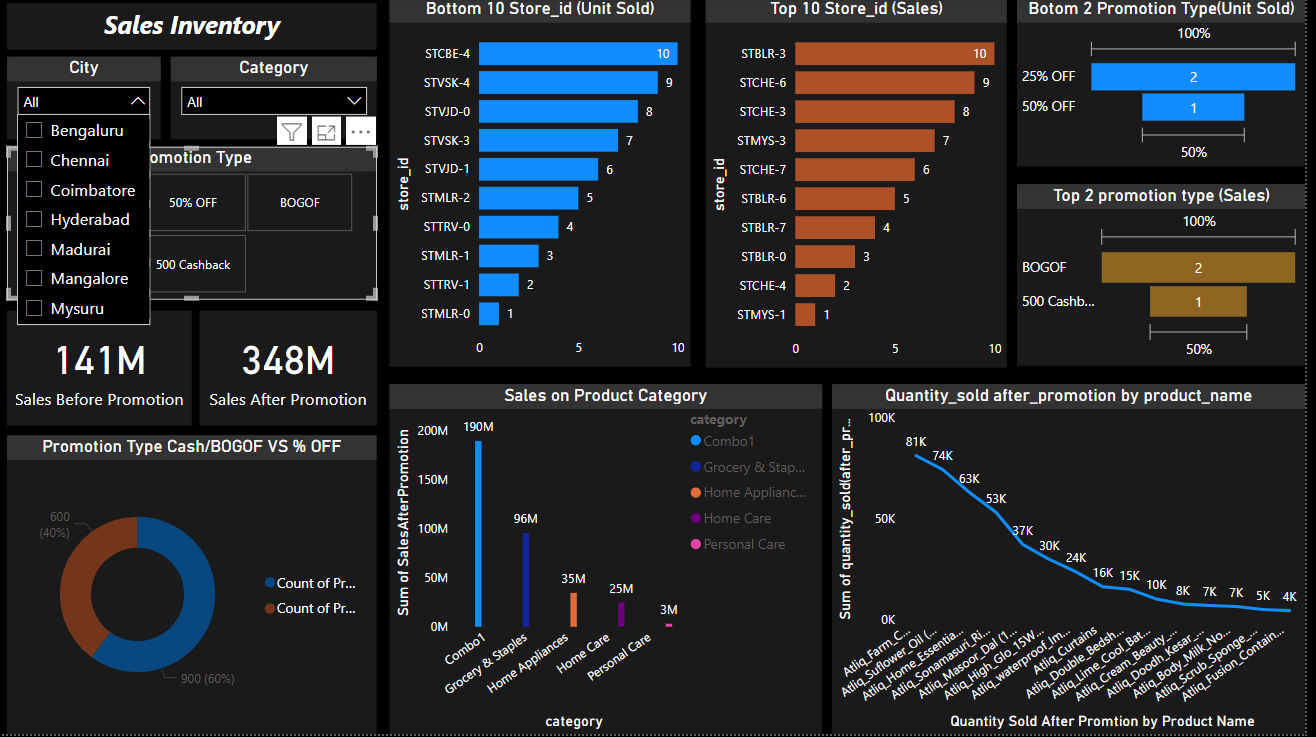

This screenshot's page, from the dashboard's own definition file:
{"tool":"powerbi","page":{"name":"Sales Inventory","canvas":[1280,720],"ordinal":0},"visuals":[{"type":"slicer","title":"City","fields":{"Values":["dim_stores.city"]},"box":[9.8,57.5,150.4,80.7],"z":0},{"type":"barChart","title":"Bottom 10 Store_id (Unit Sold)","fields":{"Y":["fact_events.Bottom 10 Customer_UNitSold"],"Category":["fact_events.store_id"]},"box":[383.8,0,294,361],"z":1000},{"type":"barChart","title":"Top 10 Store_id (Sales)","fields":{"Category":["fact_events.store_id"],"Y":["fact_events.Top_10_customers"]},"box":[693.1,0,294.6,361.8],"z":2000},{"type":"funnel","title":"Botom 2 Promotion Type(Unit Sold)","fields":{"Category":["fact_events.promo_type"],"Y":["fact_events.BottomCustomer"]},"box":[997.5,0,282.4,165],"z":3000},{"type":"funnel","title":"Top 2 promotion type (Sales)","fields":{"Category":["fact_events.promo_type"],"Y":["fact_events.Promtiontype"]},"box":[997.5,182.1,282.4,177.2],"z":4000},{"type":"slicer","title":"Category","fields":{"Values":["dim_products.category"]},"box":[169.9,57.5,201.7,80.7],"z":5000},{"type":"slicer","title":"Promotion Type","fields":{"Values":["fact_events.promo_type"]},"box":[9.8,145.5,361.8,149.1],"z":6000},{"type":"card","fields":{"Values":["fact_events.TotalSalesBeforePromotion"]},"box":[481.6,436.4,173.6,112.5],"z":7000},{"type":"card","fields":{"Values":["fact_events.TotalSalesAterPrmotion"]},"box":[198,305.6,173.6,112.5],"z":8000},{"type":"donutChart","title":"Promotion Type Cash/BOGOF VS % OFF","fields":{"Y":["CountNonNull(fact_events.Promotype for %off)","CountNonNull(fact_events.PromotypeCash/BOGOF)"]},"box":[9.8,427.8,361.8,292.2],"z":9000},{"type":"clusteredColumnChart","title":"Sales on Product Category","fields":{"Category":["dim_products.category"],"Y":["Sum(fact_events.SalesAfterPromotion)"],"Series":["dim_products.category"]},"box":[383.8,377.7,423,342.3],"z":10000},{"type":"lineChart","title":"Quantity_sold after_promotion  by product_name","fields":{"Category":["dim_products.product_name"],"Y":["Sum(fact_events.quantity_sold(after_promo))"]},"box":[816.6,377.7,463.3,342.3],"z":11000},{"type":"textbox","box":[9.8,4.9,361.8,45.2],"z":12000},{"type":"card","fields":{"Values":["Sum(fact_events.Sales_before_promotion)"]},"box":[9.8,305.6,180.9,112.5],"z":13000}]}

Visuals, with their boxes in screenshot pixels (x1, y1, x2, y2), scaled from the page's 1280x720 canvas onto the 1316x737 screenshot:
"City" slicer: 10:59:165:141
"Bottom 10 Store_id (Unit Sold)" barChart: 395:0:697:370
"Top 10 Store_id (Sales)" barChart: 713:0:1015:370
"Botom 2 Promotion Type(Unit Sold)" funnel: 1026:0:1315:169
"Top 2 promotion type (Sales)" funnel: 1026:186:1315:368
"Category" slicer: 175:59:382:141
"Promotion Type" slicer: 10:149:382:302
card - fact_events.TotalSalesBeforePromotion: 495:447:674:562
card - fact_events.TotalSalesAterPrmotion: 204:313:382:428
"Promotion Type Cash/BOGOF VS % OFF" donutChart: 10:438:382:736
"Sales on Product Category" clusteredColumnChart: 395:387:829:736
"Quantity_sold after_promotion  by product_name" lineChart: 840:387:1315:736
textbox: 10:5:382:51
card - Sum(fact_events.Sales_before_promotion): 10:313:196:428
